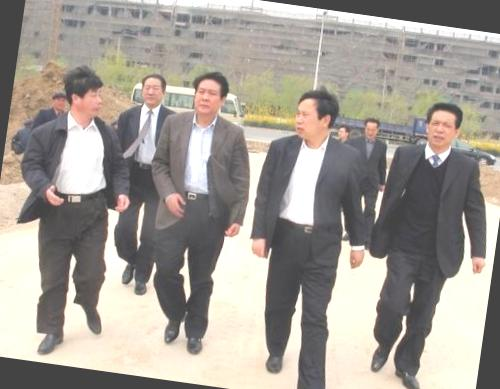no_helmet: (287, 82, 342, 146), (59, 64, 109, 123), (418, 96, 467, 152), (186, 65, 232, 121), (136, 69, 168, 110), (361, 114, 385, 143)
